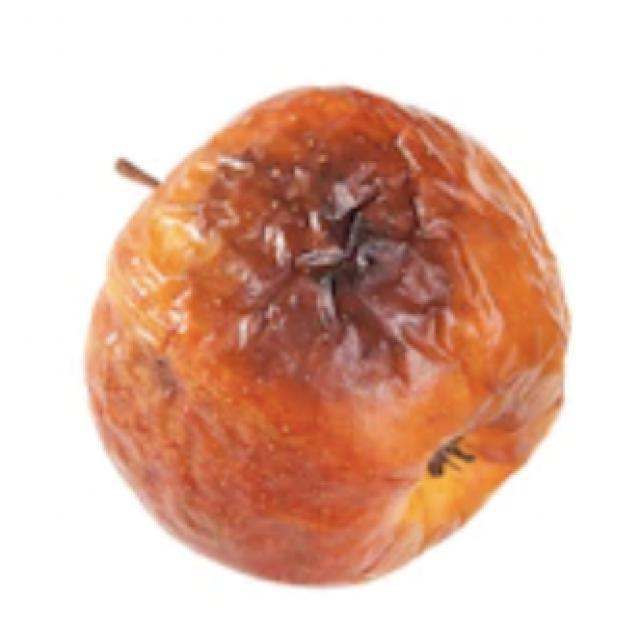Rotten: (75, 87, 567, 580)
